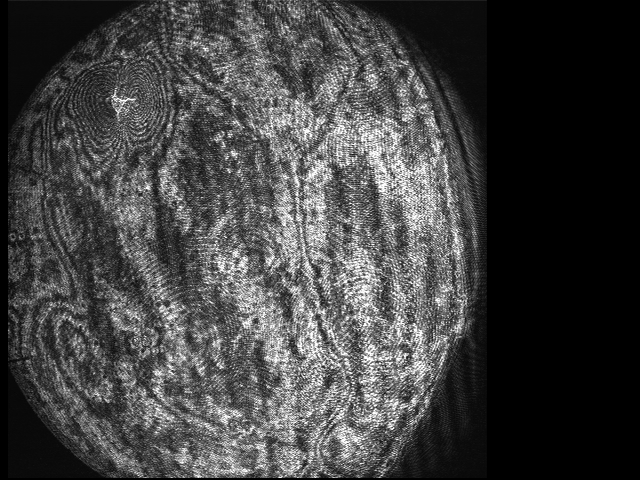plume: (69, 51, 168, 155)
